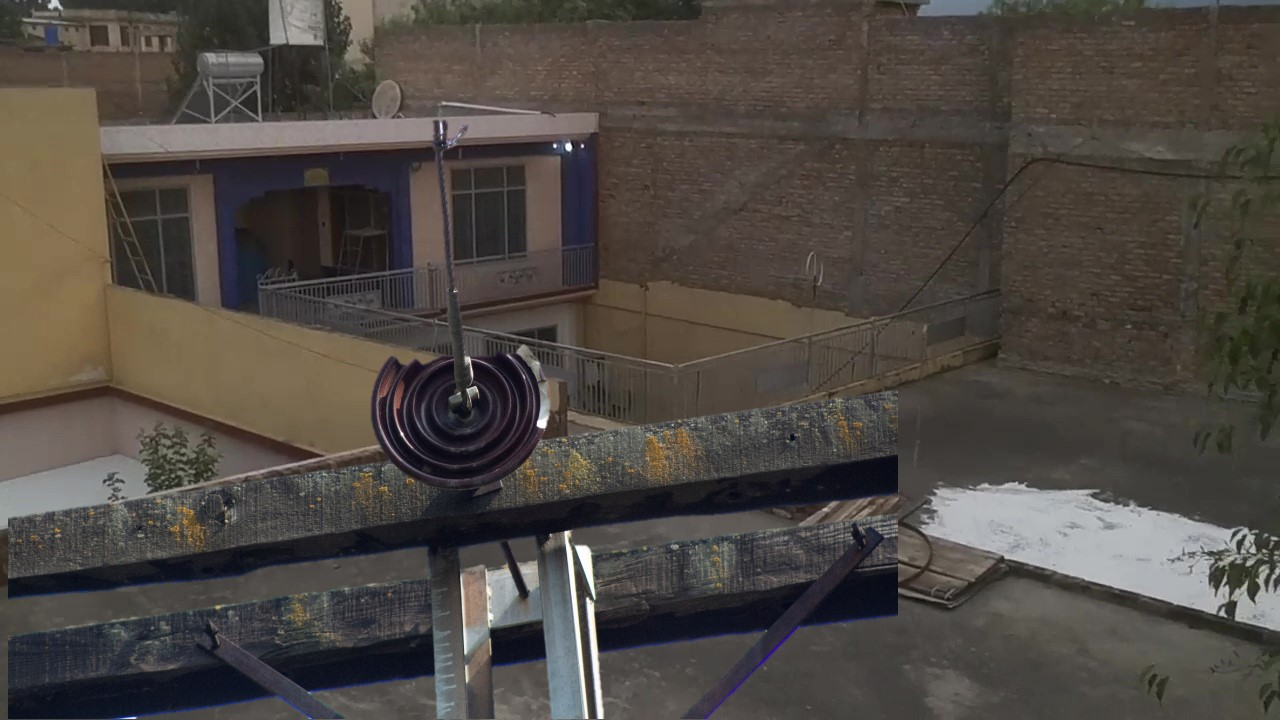defect_disc: (368, 338, 555, 496)
